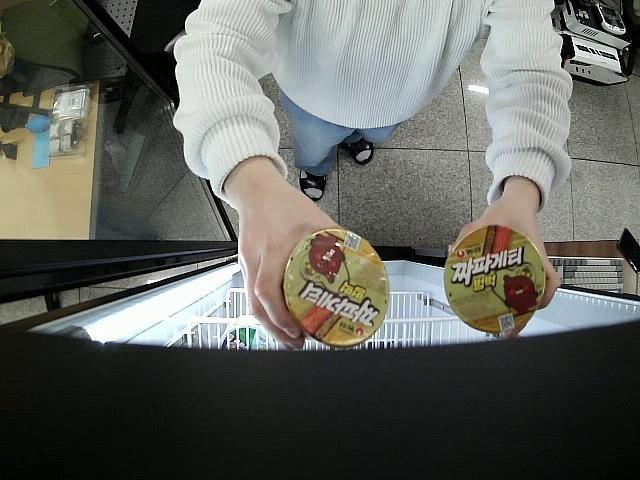04_chapagetti_S: (278, 229, 392, 344), (441, 224, 547, 328)
